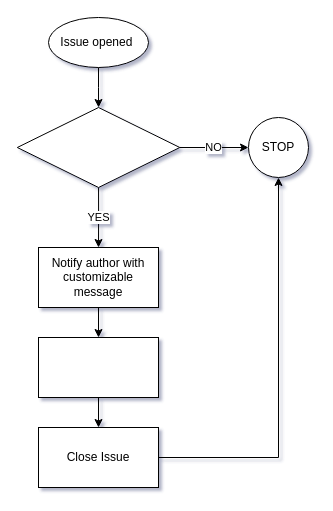
Some shapes in this 333 by 511 pixel diagram are drawn without their labels. Each missing label, with the centre of its shape:
"Blank description ?" belongs at point (98, 147).
"Label with needs-more-info" belongs at point (98, 367).
